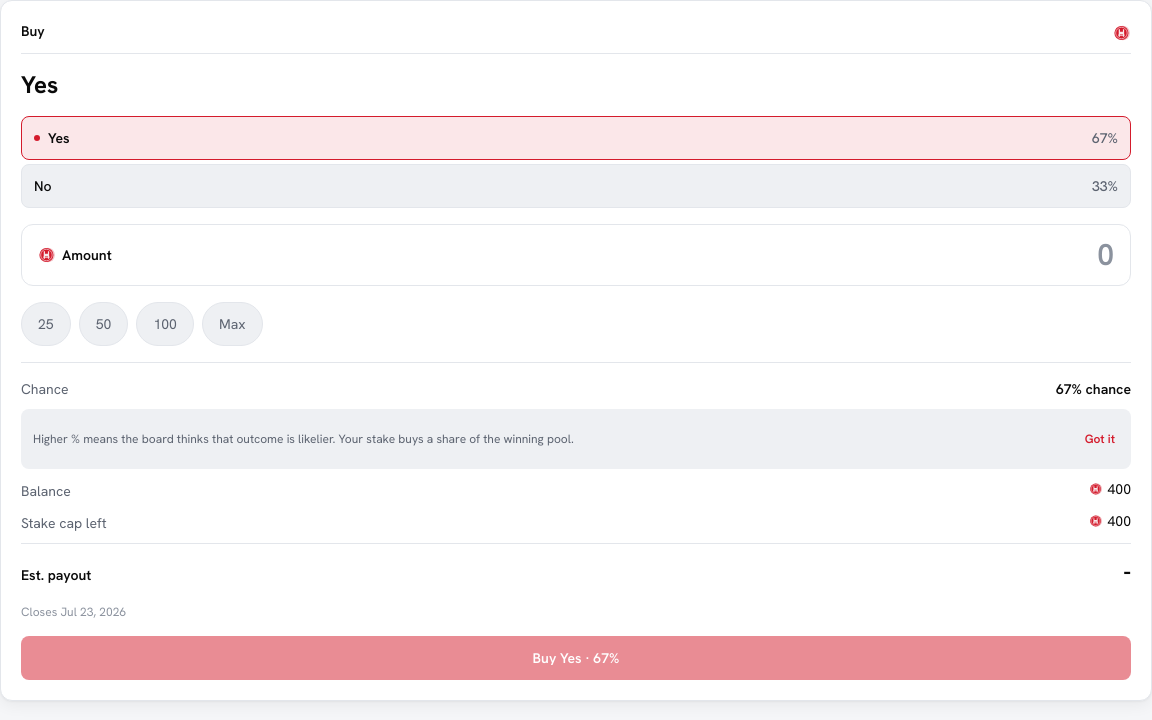
Test: OrderPanel › shows a beginner odds tip until dismissed
Expected: the text "board thinks that outcome is likelier" is shown, [33, 431, 574, 447]
Click the button "Got it" at [1100, 439], box [1081, 417, 1119, 461]
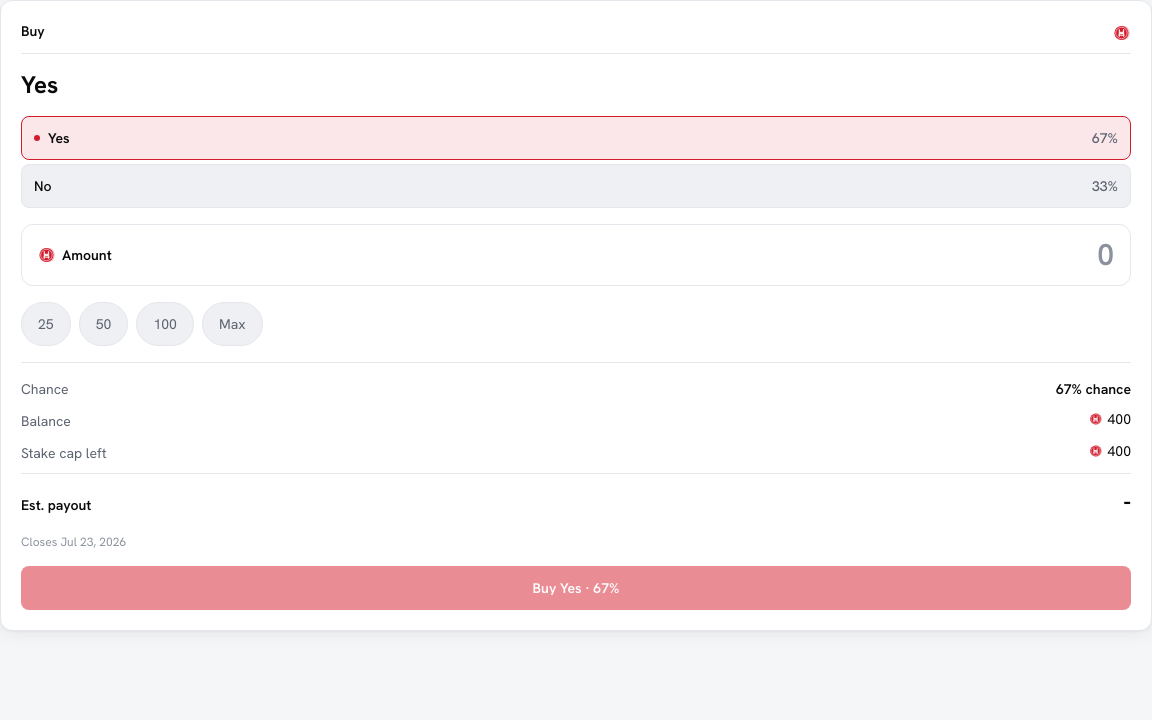
Now the text "board thinks that outcome is likelier" is gone
